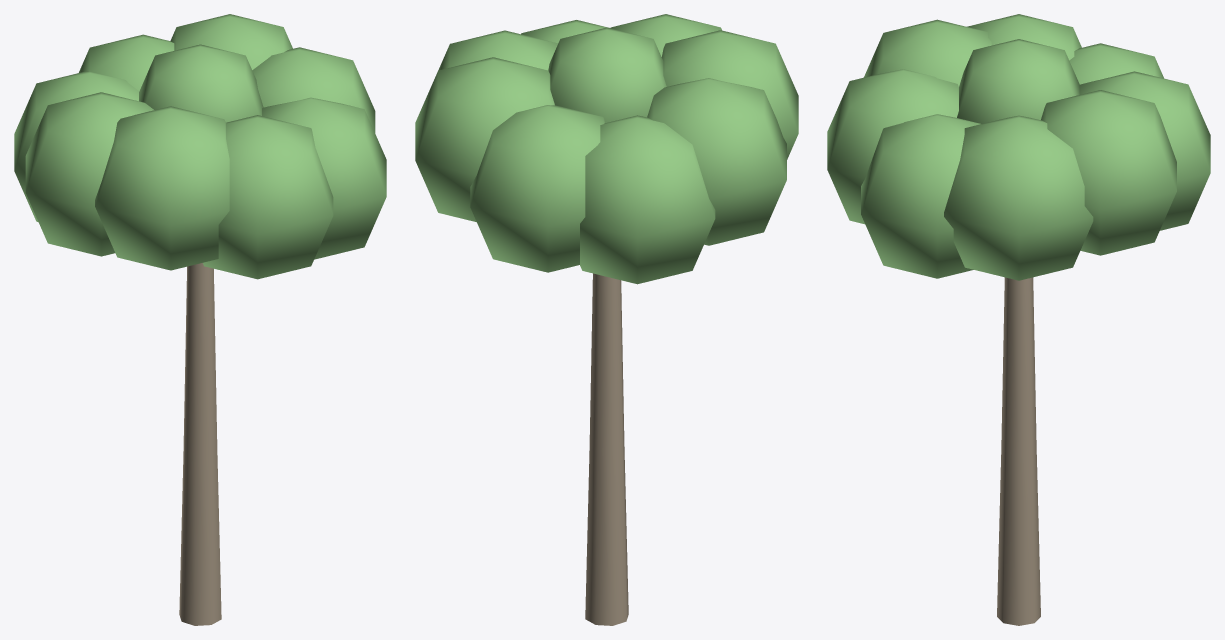
The model's file is tree_palm.glb.
3 renders of one model, left to right at view 1: azimuth 30°, elevation 25°; view 2: azimuth 150°, elevation 25°; view 3: azimuth 270°, elevation 25°, orthographic. The views are drawn at different scales.
Visible parts, largest first — view 1: Fronds, Trunk; view 2: Fronds, Trunk; view 3: Fronds, Trunk.
Part boxes in pixels (x1,y1,x2,y2): Fronds: [14, 14, 386, 279]; Trunk: [179, 263, 221, 625]; Fronds: [415, 14, 798, 284]; Trunk: [585, 273, 628, 625]; Fronds: [827, 14, 1210, 280]; Trunk: [997, 277, 1040, 625].
Size of the model in its own units: 12 by 18.7 by 11.3.
